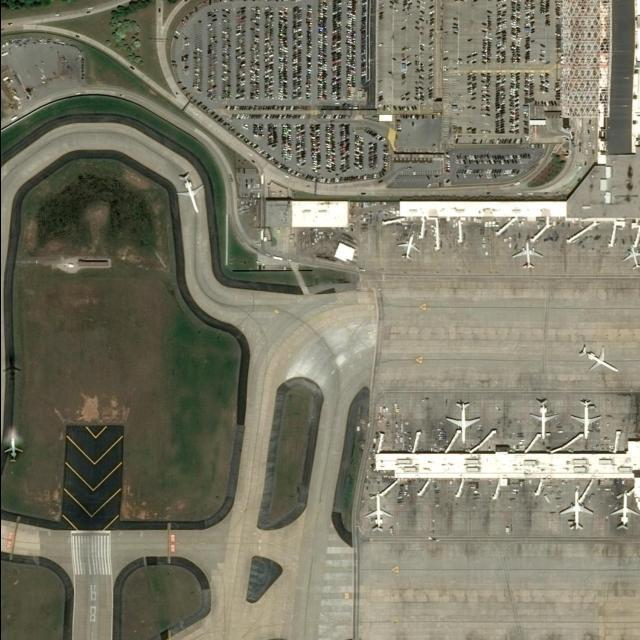Aircraft: (442, 400, 481, 443), (555, 489, 592, 531), (567, 398, 603, 439), (526, 396, 558, 440), (362, 490, 394, 532), (607, 488, 639, 530), (576, 343, 618, 373), (508, 237, 544, 270), (396, 232, 420, 260), (618, 243, 640, 269)
